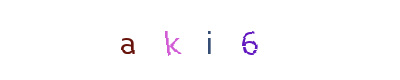6: (194, 0, 274, 80)
A: (88, 0, 168, 80)
I: (160, 0, 240, 80)
K: (142, 0, 222, 80)
